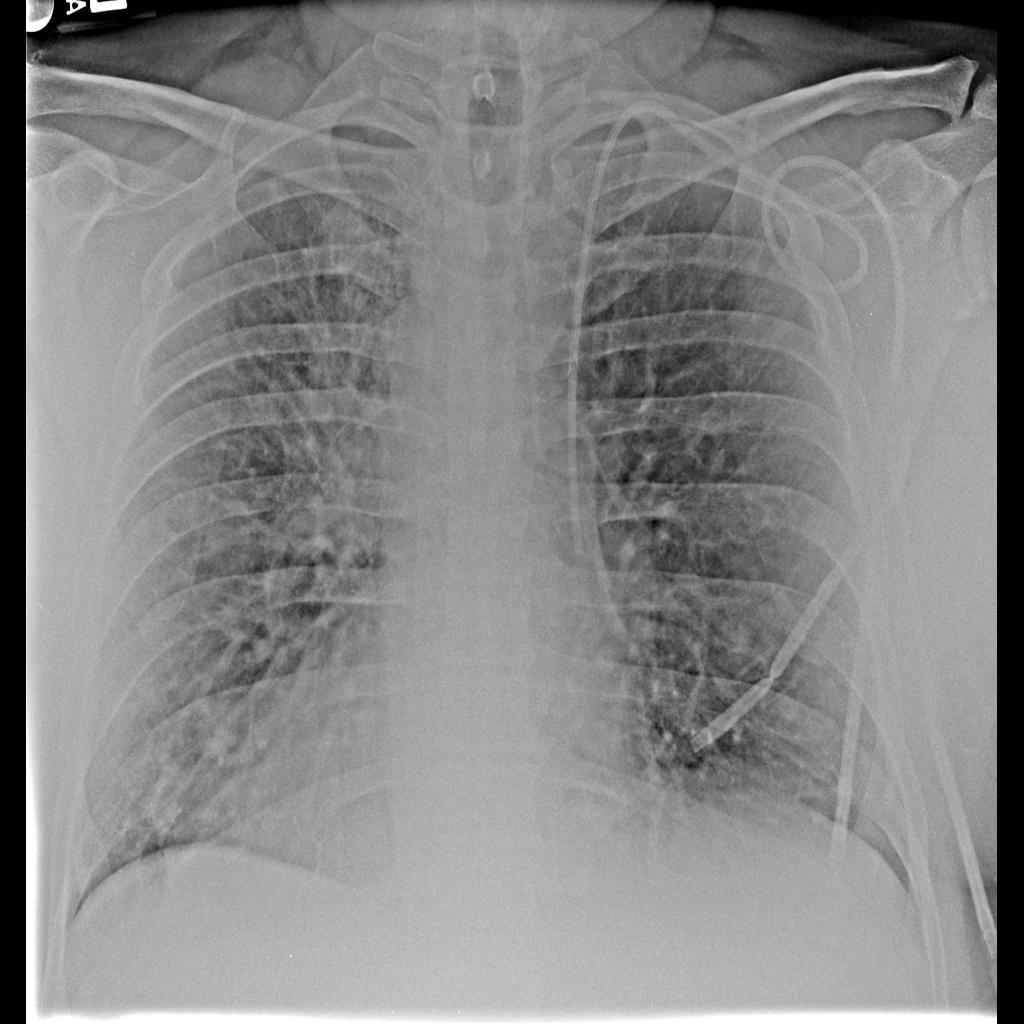Nodule: (185, 686, 261, 764), (193, 488, 268, 562), (145, 763, 197, 841)
